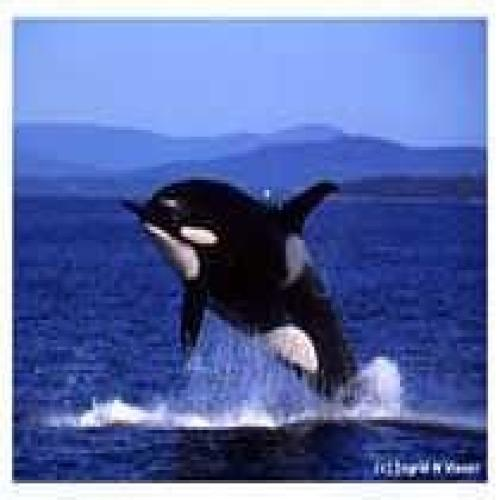killer_whale-endangered: (103, 131, 386, 422)
